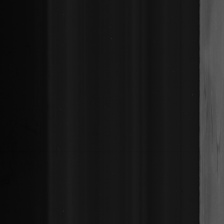silk_spot: (201, 75, 222, 185)
